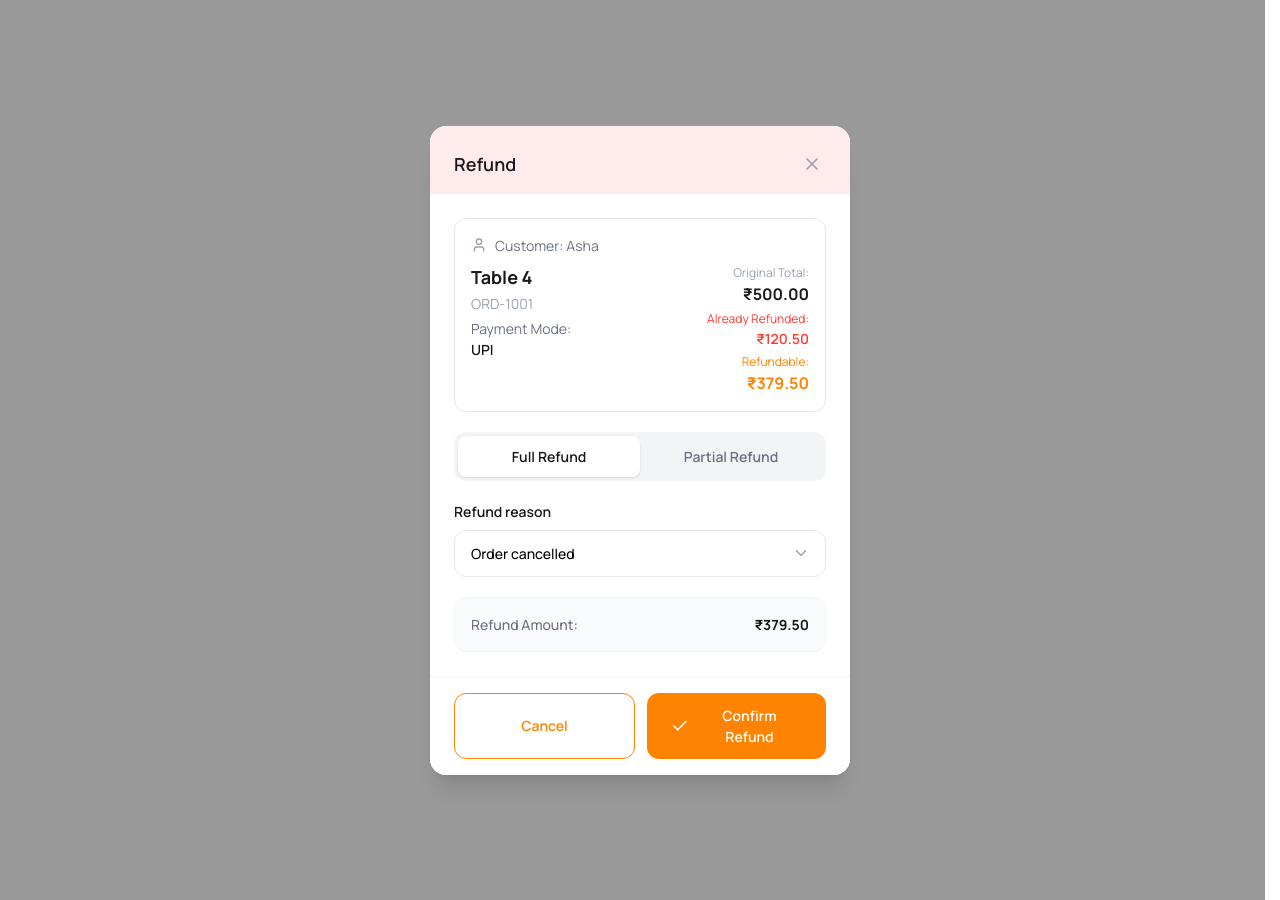
Scenario: RefundModal — partial refund amount bounds › strips non-numeric characters and ignores a second decimal point
Step 1. Click the button "Partial Refund" → (731, 456), box [640,436,822,476]
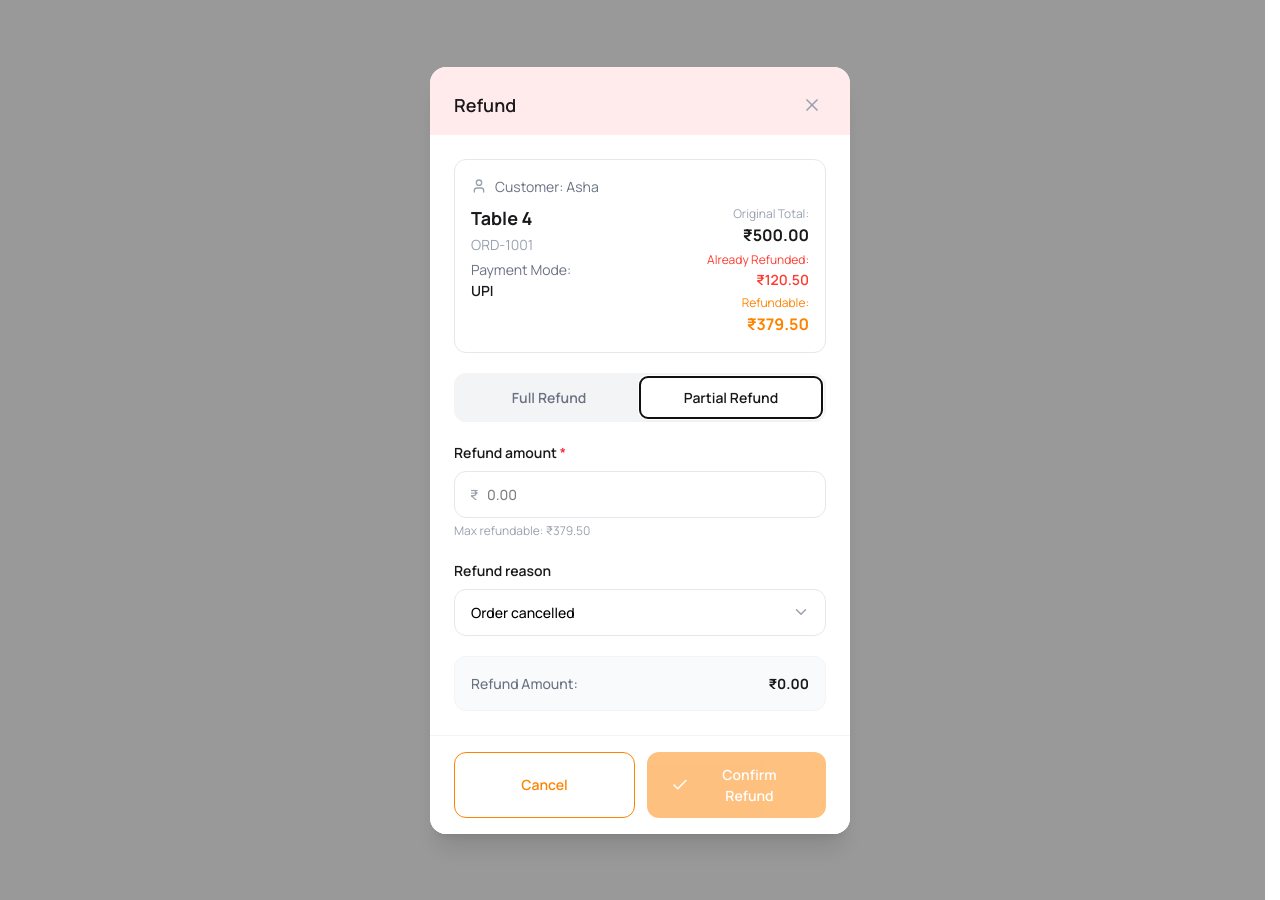
Step 2. Type "1a2b.5" into the field labelled "Refund amount *" → (640, 494), box [454,470,826,518]
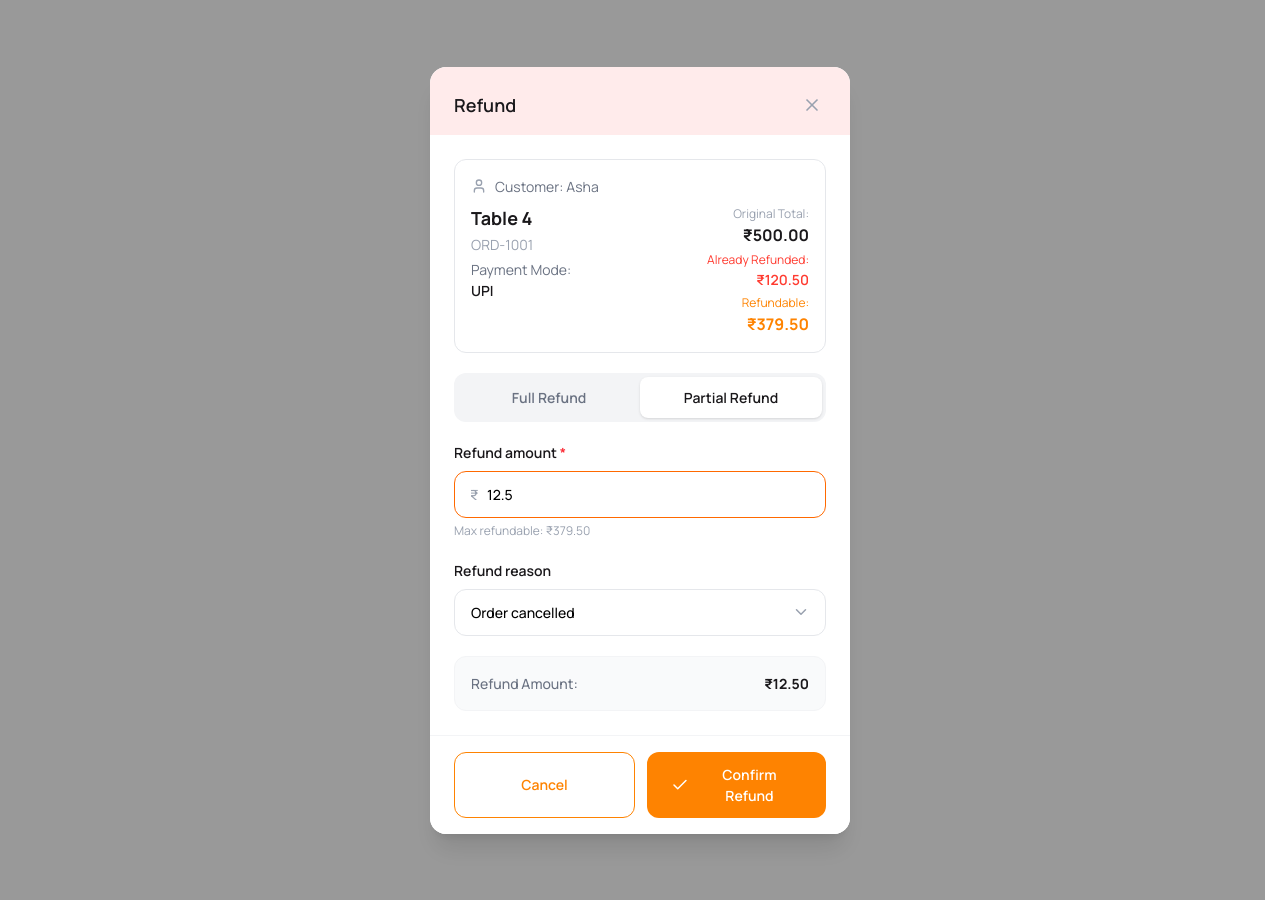
Expected: the field labelled "Refund amount *" holds "12.5"
Step 3. Type ".3" into the field labelled "Refund amount *" → (640, 494), box [454,470,826,518]
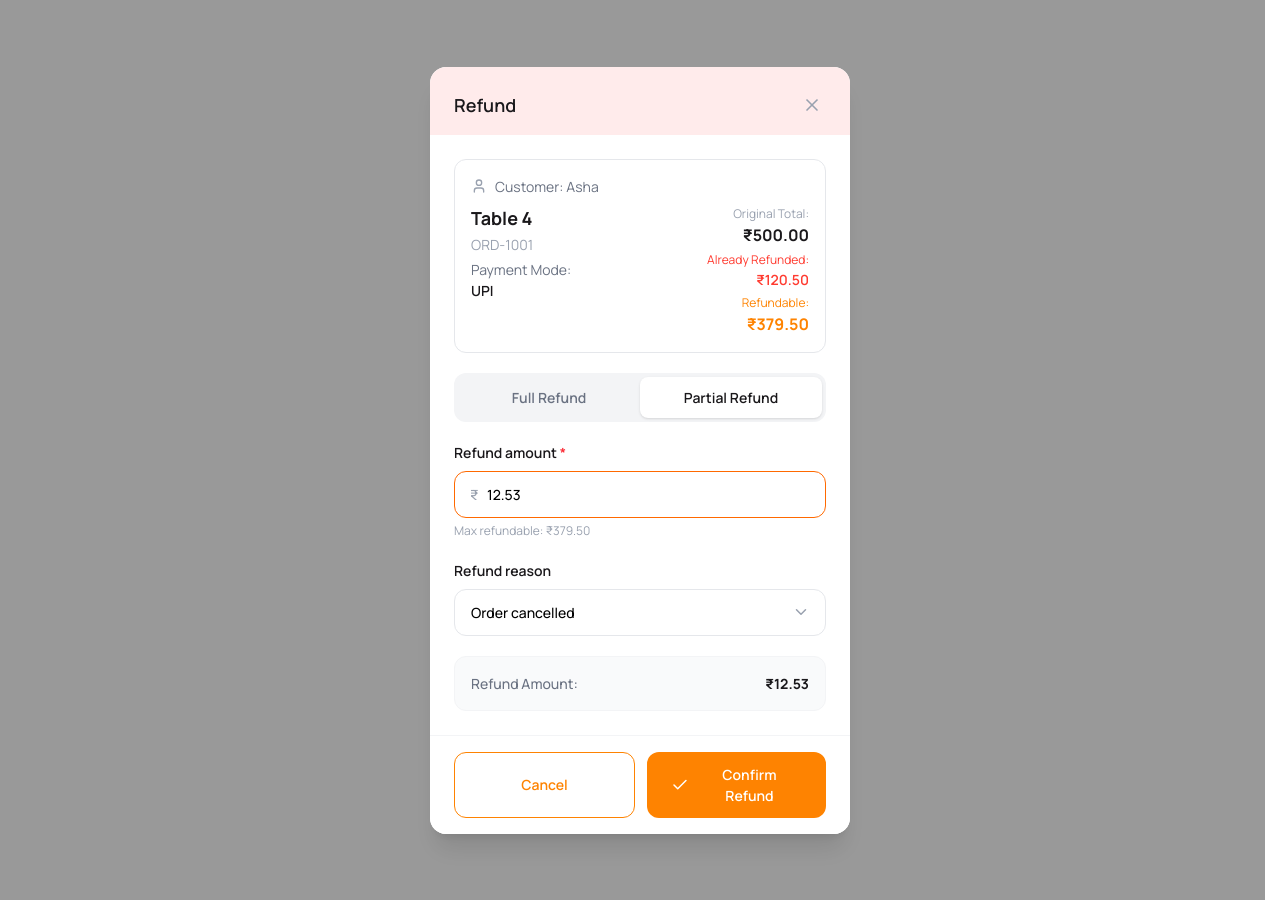
Expected: the field labelled "Refund amount *" holds "12.53", [454,470,826,518]
